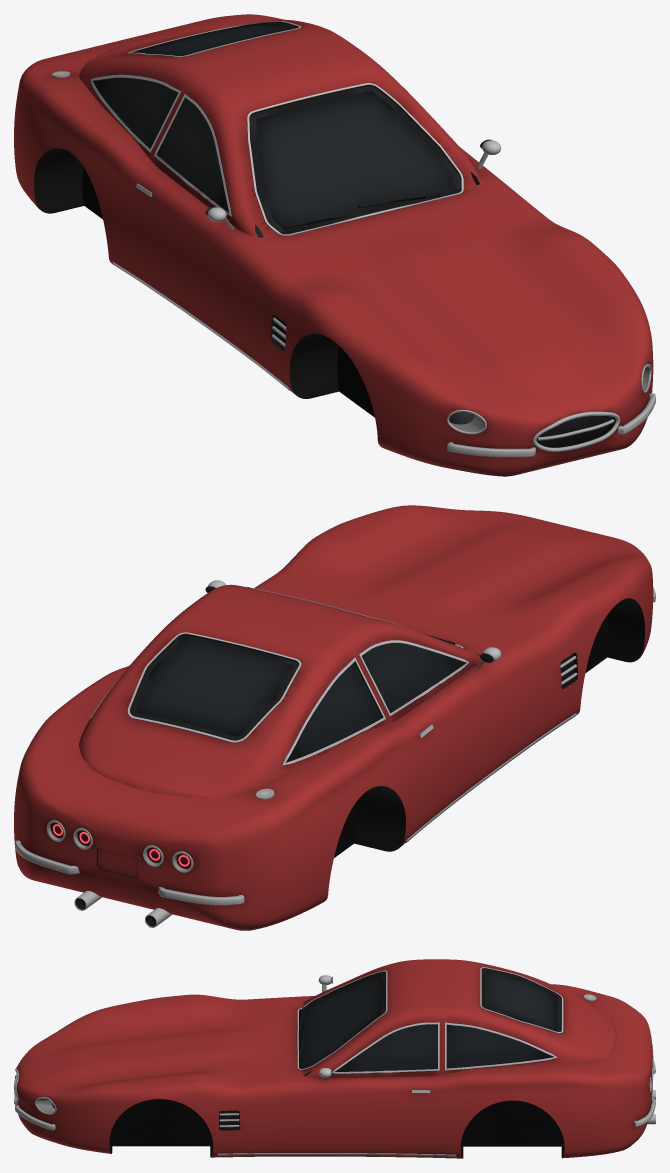
The model's file is vesper.glb.
3 renders of one model, top to bottom at view 1: azimuth 30°, elevation 25°; view 2: azimuth 150°, elevation 25°; view 3: azimuth 270°, elevation 25°, orthographic. The views are drawn at different scales.
Visible parts, largest first — view 1: paint, window, trim, chrome, grille; view 2: paint, window, trim, chrome; view 3: paint, window, trim, chrome, grille.
Boxes of the visible parts, box(x1,y1,x2,y2) form: paint: box(14, 14, 653, 475); window: box(94, 24, 460, 234); trim: box(34, 22, 631, 476); chrome: box(52, 21, 655, 457); grille: box(274, 316, 612, 446); paint: box(14, 505, 653, 930); window: box(136, 635, 464, 761); trim: box(75, 598, 644, 930); chrome: box(15, 552, 655, 927); paint: box(15, 959, 652, 1158); window: box(299, 971, 557, 1071); trim: box(17, 968, 625, 1158); chrome: box(14, 967, 655, 1156); grille: box(219, 1110, 239, 1129).
Size of what is drawn, in the model's own units: 1.71 by 1.03 by 4.57.
